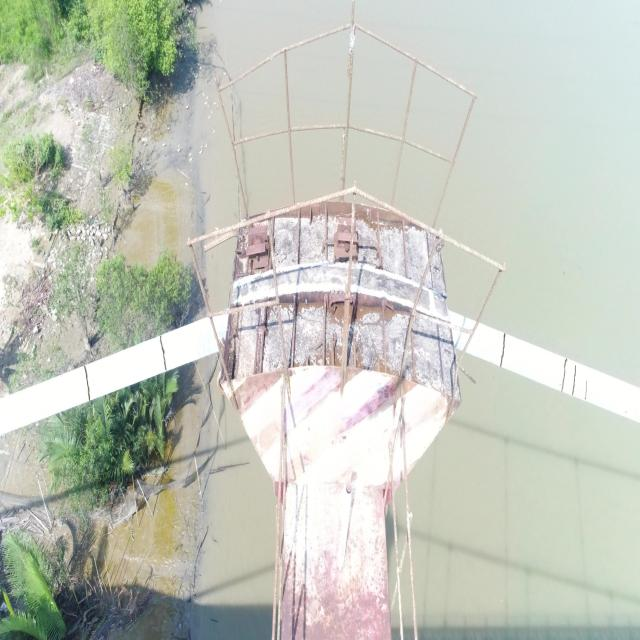crack: (159, 336, 167, 373), (499, 332, 507, 367), (83, 367, 91, 402), (560, 358, 568, 392), (572, 366, 576, 396), (584, 380, 588, 400)
